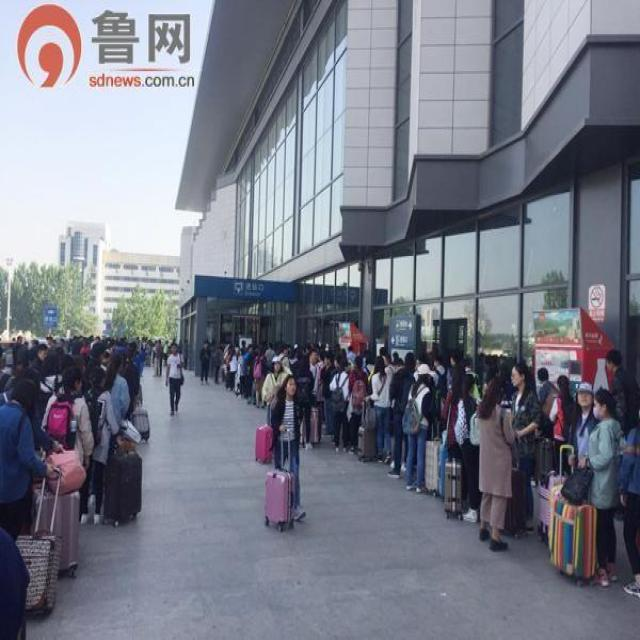non-fight: (0, 366, 44, 638), (578, 382, 627, 588), (470, 371, 520, 550), (269, 375, 307, 532), (89, 368, 122, 529)
